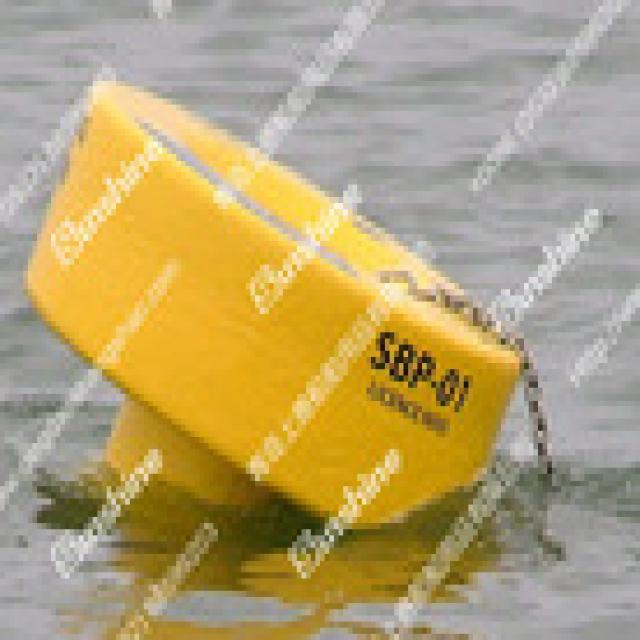buoy: (29, 75, 512, 549)
